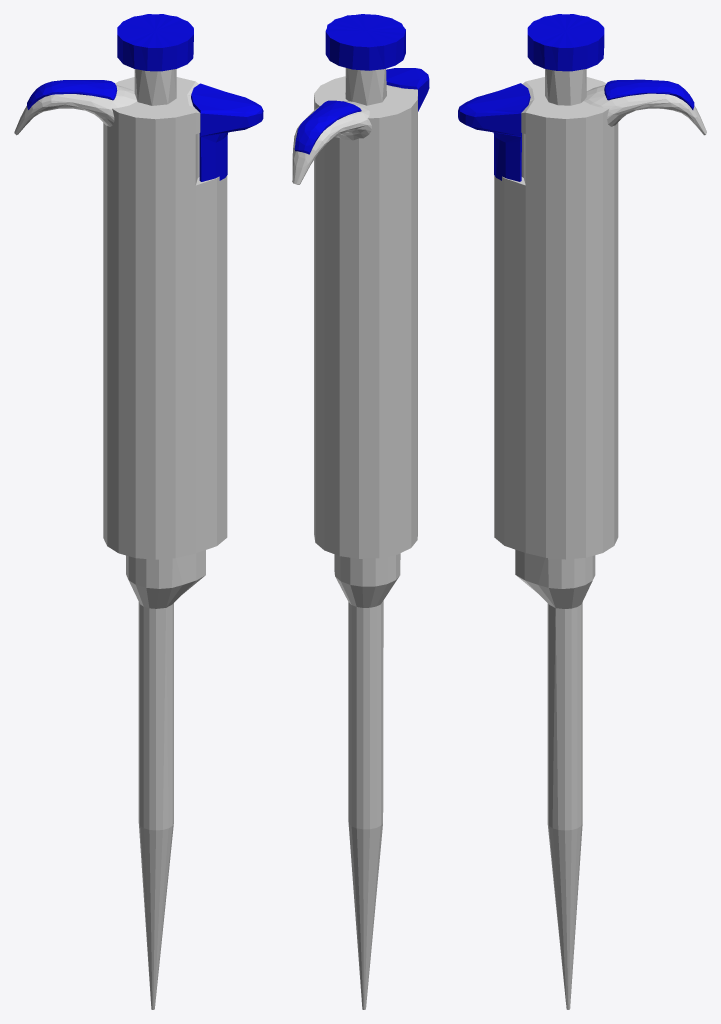
Rendered from pipetLowPoly.gltf.
The picture shows the model from 3 angles, left to right: view 1: azimuth 90°, elevation 25°; view 2: azimuth 150°, elevation 25°; view 3: azimuth 270°, elevation 25°; orthographic projection.
Visible parts, largest first — view 1: Cylinder.008; view 2: Cylinder.008; view 3: Cylinder.008.
Part boxes in pixels (x1=…): Cylinder.008: x1=14, y1=14, x2=263, y2=1009; Cylinder.008: x1=292, y1=14, x2=429, y2=1009; Cylinder.008: x1=458, y1=14, x2=706, y2=1009.
Bounding box in the file's own units: 0.0224 × 0.231 × 0.0533.
